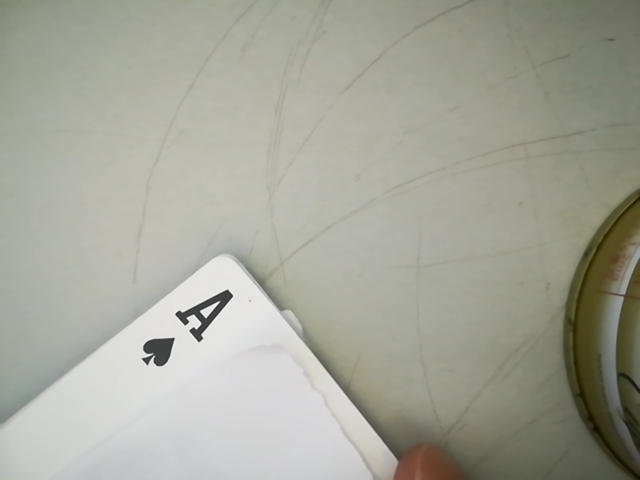ht a: (123, 275, 244, 369)
